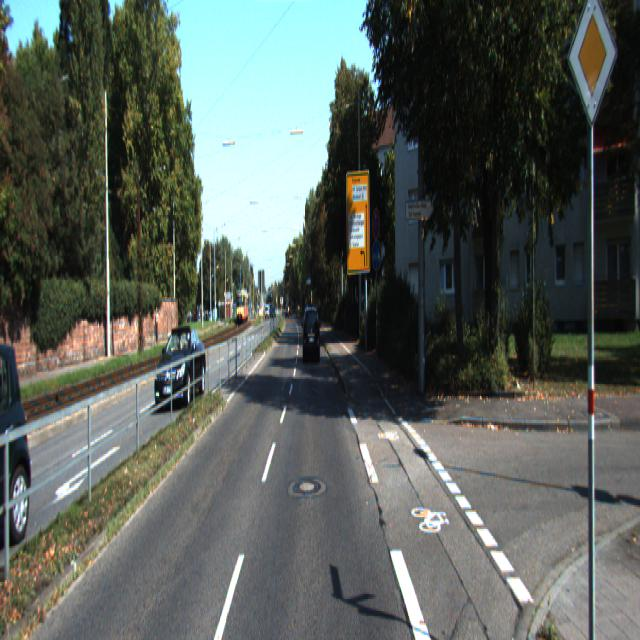Car: (0, 328, 36, 560), (154, 324, 207, 410), (303, 304, 321, 362), (236, 293, 249, 327)
